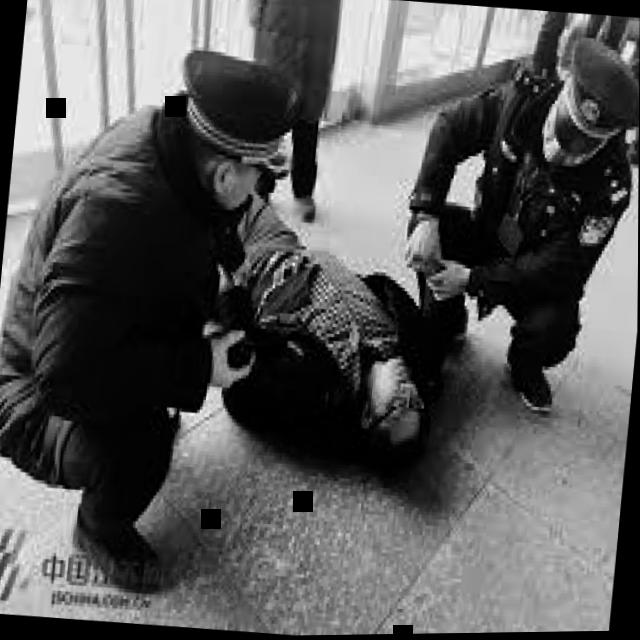Fall-Detected: (180, 191, 478, 480)
